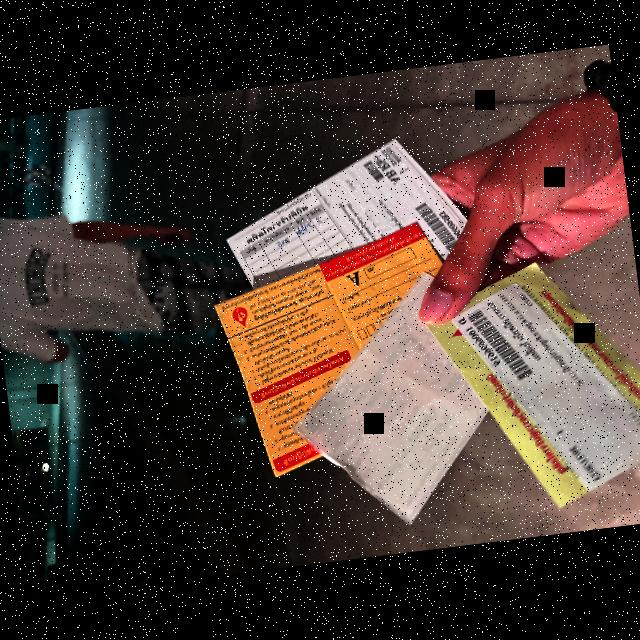scrap_paper: (202, 214, 486, 489), (418, 236, 640, 521), (280, 276, 500, 536), (213, 124, 469, 330)
